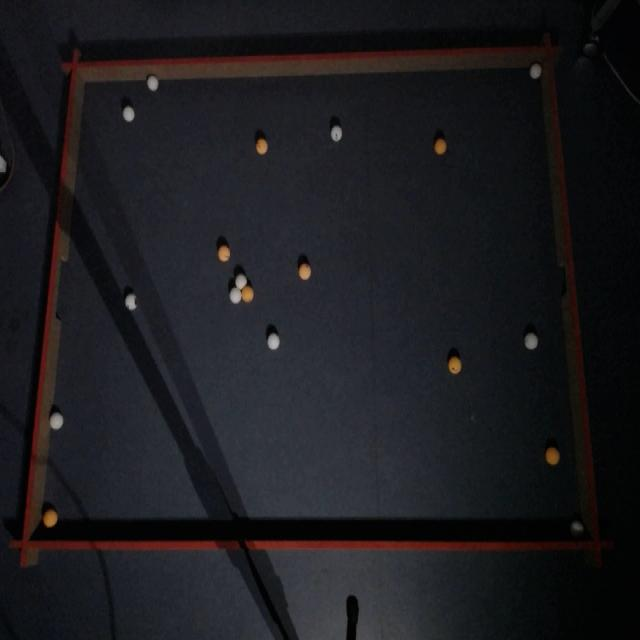orange_ball: (42, 508, 58, 529), (545, 446, 560, 466), (242, 284, 254, 303), (218, 245, 230, 262), (299, 263, 311, 280), (435, 140, 446, 154), (256, 138, 266, 153), (449, 362, 458, 373)
white_ball: (49, 410, 64, 430), (524, 333, 538, 350), (146, 74, 159, 91), (230, 284, 241, 303), (122, 105, 134, 122), (530, 63, 542, 79), (235, 273, 247, 289), (268, 334, 280, 350), (331, 125, 342, 141), (571, 520, 583, 534), (126, 294, 136, 310)
